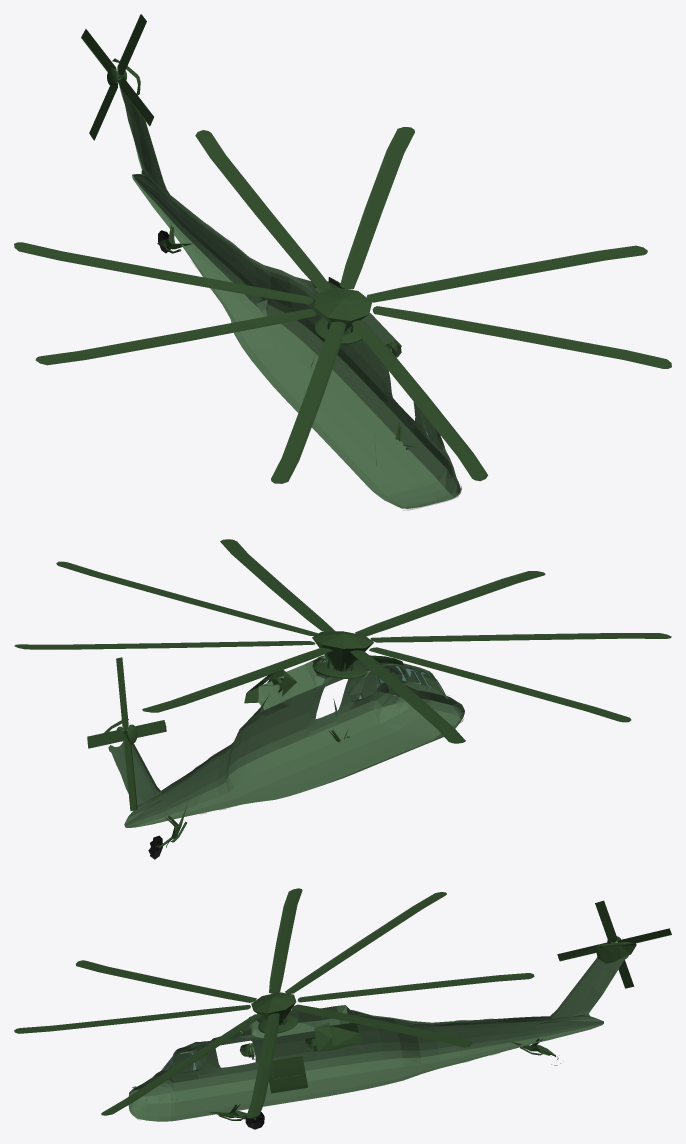
Rendered from Helicopter.glb.
3 views of the same model, one above another, from view 1: azimuth 30°, elevation 25°; view 2: azimuth 150°, elevation 25°; view 3: azimuth 270°, elevation 25° (orthographic). The views are drawn at different scales.
Visible parts, largest first — view 1: Mesh.002; view 2: Mesh.002; view 3: Mesh.002.
Boxes of the visible parts, x1,y1,x2,y2 form: Mesh.002: (14,14,671,510); Mesh.002: (14,539,671,859); Mesh.002: (14,888,671,1129).
Bounding box in the file's own units: 3.1 × 1.4 × 3.87.
